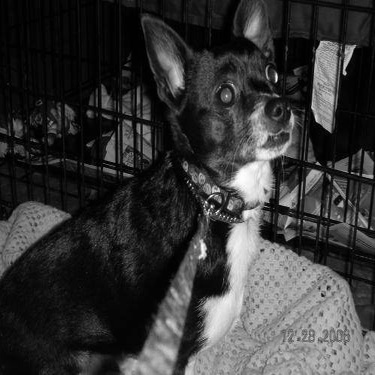dog: (1, 4, 304, 372)
